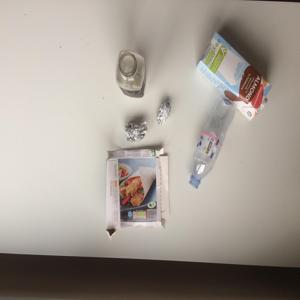cardboard: (192, 26, 286, 124), (97, 145, 180, 239)
glass: (112, 48, 151, 104)
metal: (149, 94, 178, 128), (120, 114, 150, 145)
plastic: (187, 97, 237, 198)
